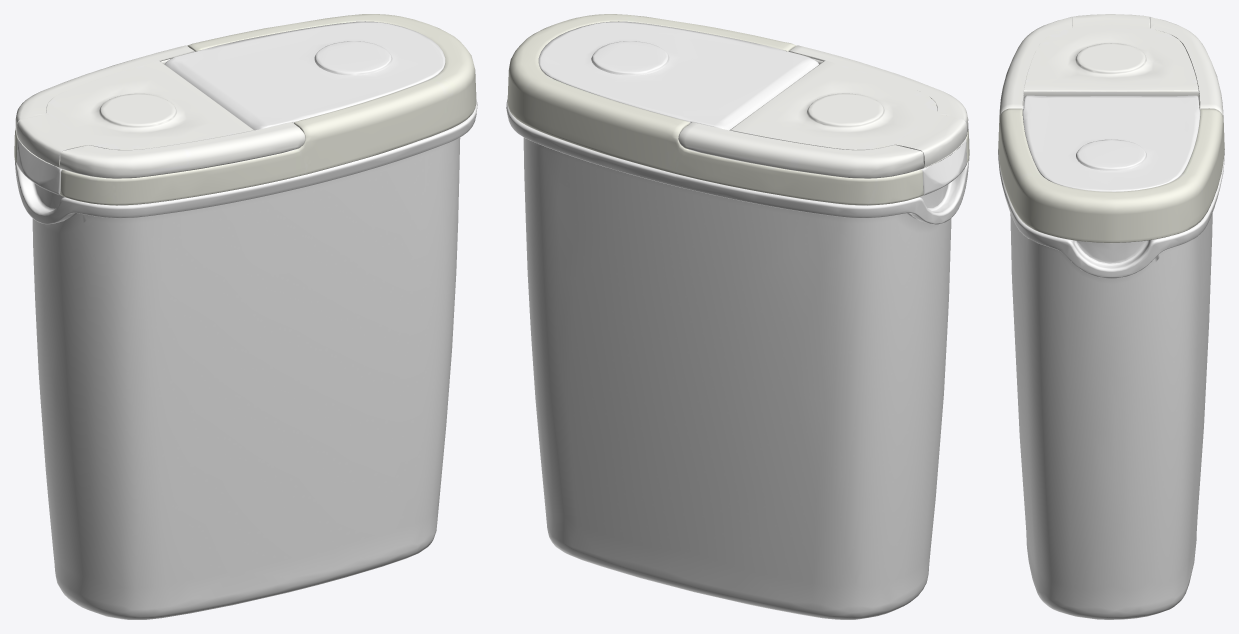
File: ikea_365_pojemnik_na_sucha_zywnosc_pokr_80066723.glb
3 renders of one model, left to right at view 1: azimuth 30°, elevation 25°; view 2: azimuth 150°, elevation 25°; view 3: azimuth 270°, elevation 25°, orthographic. The views are drawn at different scales.
Parts seen in each view (by area): view 1: ikea_365_pojemnik_na_sucha_zywnosc_pokr_80066723; view 2: ikea_365_pojemnik_na_sucha_zywnosc_pokr_80066723; view 3: ikea_365_pojemnik_na_sucha_zywnosc_pokr_80066723.
Part boxes in pixels (x1,y1,x2,y2): ikea_365_pojemnik_na_sucha_zywnosc_pokr_80066723: [14, 14, 477, 619]; ikea_365_pojemnik_na_sucha_zywnosc_pokr_80066723: [506, 14, 969, 619]; ikea_365_pojemnik_na_sucha_zywnosc_pokr_80066723: [998, 14, 1224, 619].
Size of the model in its own units: 0.1681 by 0.1811 by 0.0842.
Materials: 2 (2 with a texture image).
